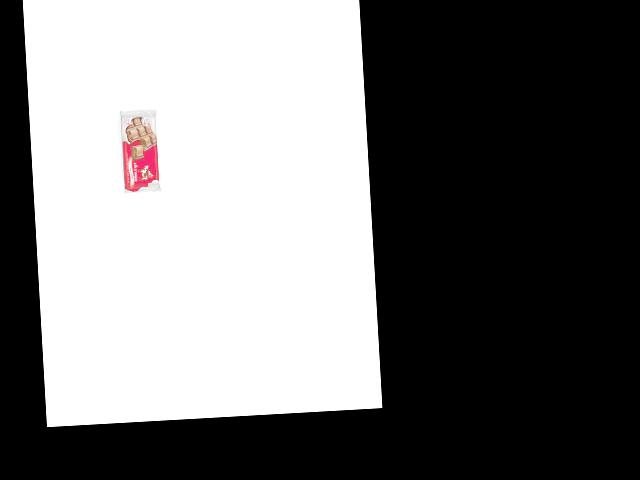chocolate: (119, 106, 161, 194)
